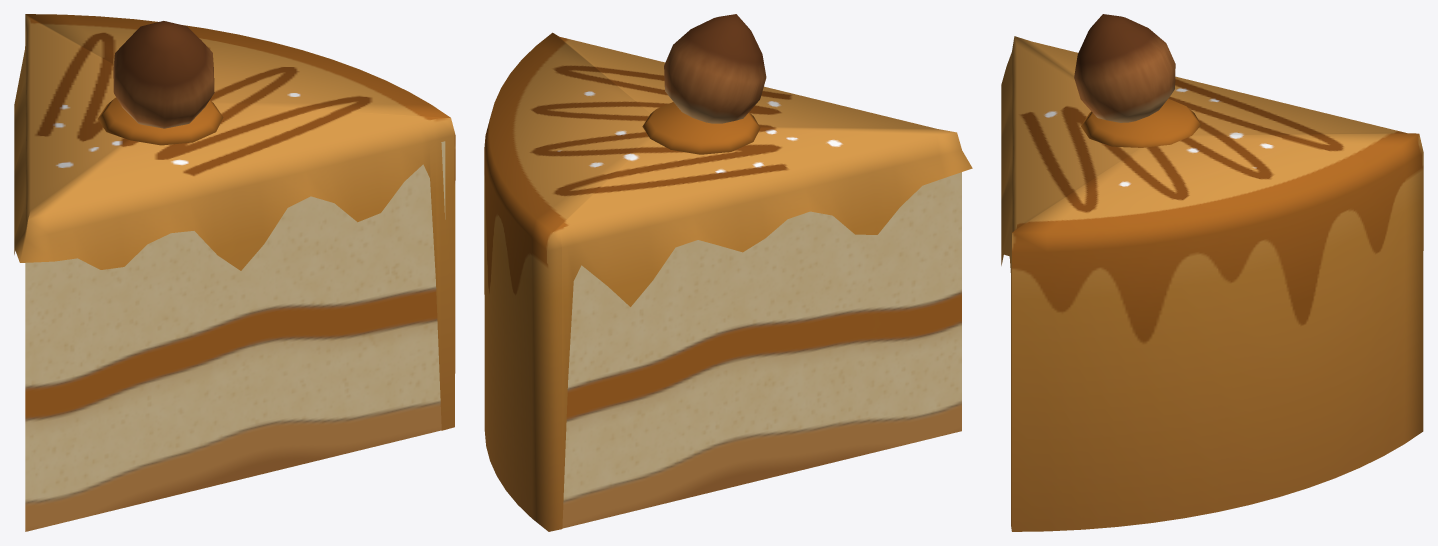
File: caramel_slice.glb
The picture shows the model from 3 angles, left to right: view 1: azimuth 30°, elevation 25°; view 2: azimuth 150°, elevation 25°; view 3: azimuth 270°, elevation 25°; orthographic projection. The views are drawn at different scales.
Visible parts, largest first — view 1: CaramelSlice; view 2: CaramelSlice; view 3: CaramelSlice.
Part boxes in pixels (left/top/right/bottom): CaramelSlice: left=14, top=14, right=455, bottom=531; CaramelSlice: left=484, top=14, right=972, bottom=531; CaramelSlice: left=1001, top=14, right=1423, bottom=531.
Size of the model in its own units: 1.04 by 0.9615 by 0.9096.
1 material, 1 textured.
